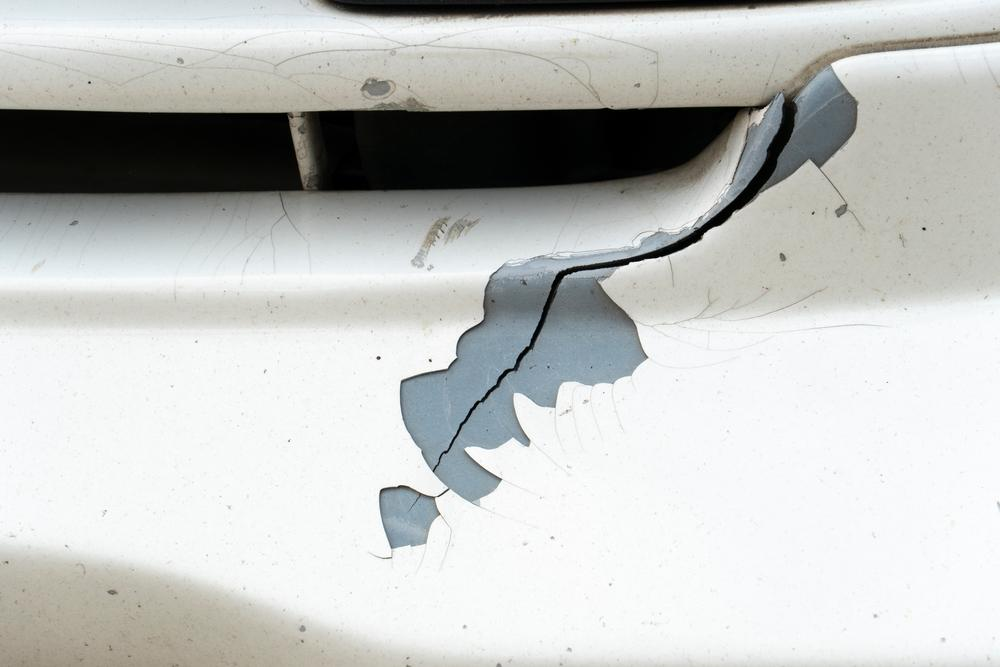crack: (403, 96, 801, 513)
